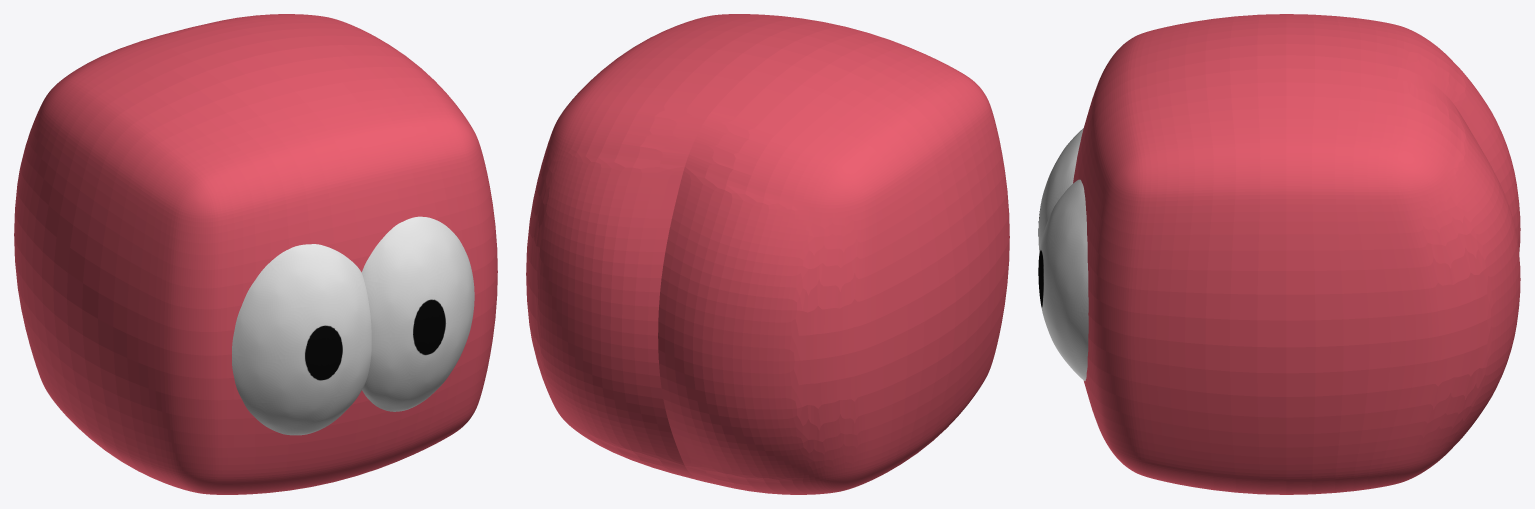
Rendered from JellyRounded.fbx.
3 views of the same model, side by side, from view 1: azimuth 30°, elevation 25°; view 2: azimuth 150°, elevation 25°; view 3: azimuth 270°, elevation 25° (orthographic).
Parts seen in each view (by area): view 1: Jelly.Ass.Round.Subdiv; view 2: Jelly.Ass.Round.Subdiv; view 3: Jelly.Ass.Round.Subdiv.
Part boxes in pixels (x1,y1,x2,y2): Jelly.Ass.Round.Subdiv: [14, 14, 497, 494]; Jelly.Ass.Round.Subdiv: [526, 14, 1009, 494]; Jelly.Ass.Round.Subdiv: [1038, 14, 1520, 494].
Bounding box in the file's own units: 222 × 222 × 243.
